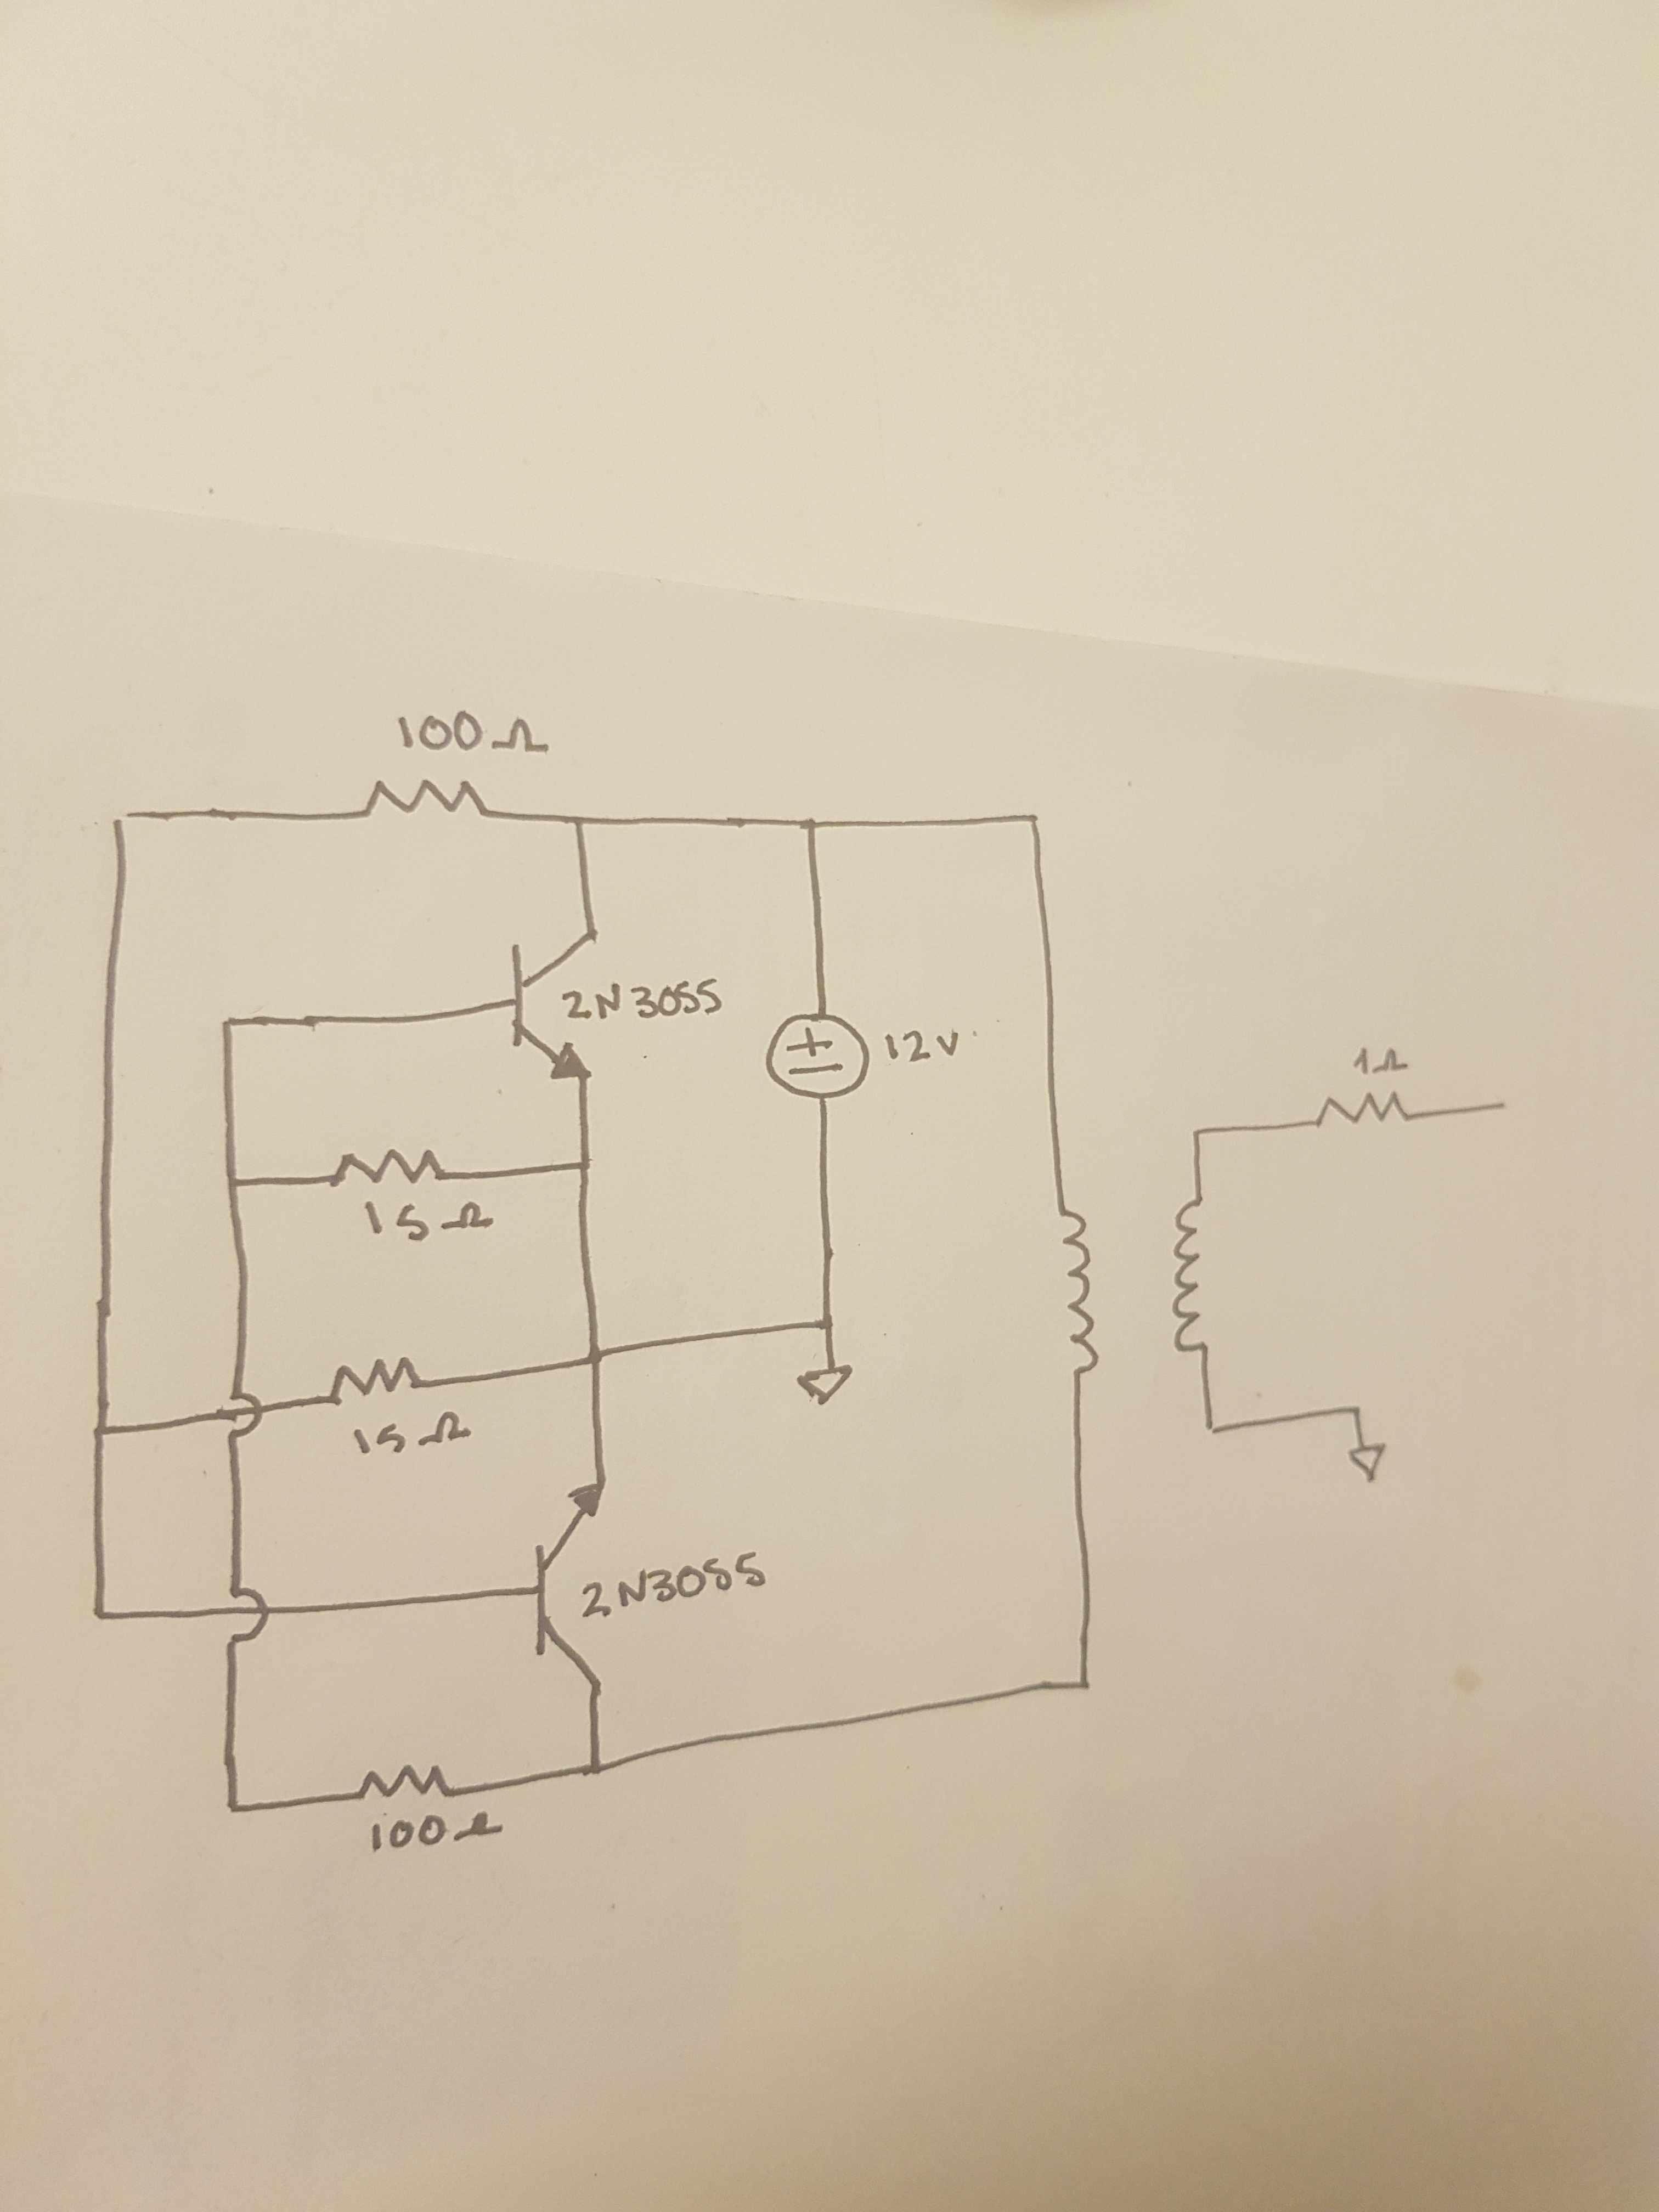crossover: (221, 1585, 270, 1651), (223, 1388, 267, 1449)
gnd: (791, 1360, 856, 1409), (1345, 1440, 1389, 1487)
junction: (103, 806, 139, 836), (580, 1341, 610, 1371), (1197, 1414, 1225, 1446), (85, 1599, 113, 1629), (220, 1792, 247, 1820), (580, 1754, 606, 1784), (1018, 806, 1046, 833), (798, 813, 824, 840), (85, 1418, 112, 1444), (568, 1153, 596, 1177), (221, 1172, 249, 1197), (816, 1312, 840, 1338), (1072, 1670, 1094, 1695), (216, 1008, 239, 1033), (566, 808, 587, 833), (1187, 1123, 1208, 1144), (1344, 1400, 1366, 1420)
resistor: (357, 772, 491, 829), (326, 1352, 432, 1411), (331, 1141, 444, 1195), (357, 1763, 457, 1808), (1310, 1090, 1413, 1134)
terminal: (1490, 1090, 1518, 1118)
text: (572, 1552, 772, 1623), (390, 705, 558, 770), (558, 977, 727, 1028), (356, 1198, 500, 1247), (366, 1811, 514, 1855), (350, 1411, 476, 1461), (878, 1028, 967, 1069), (1345, 1042, 1417, 1089)
transformer: (1053, 1191, 1216, 1385)
transistor: (530, 1467, 615, 1712), (502, 914, 606, 1097)
voltage.dc: (760, 1005, 875, 1111)
